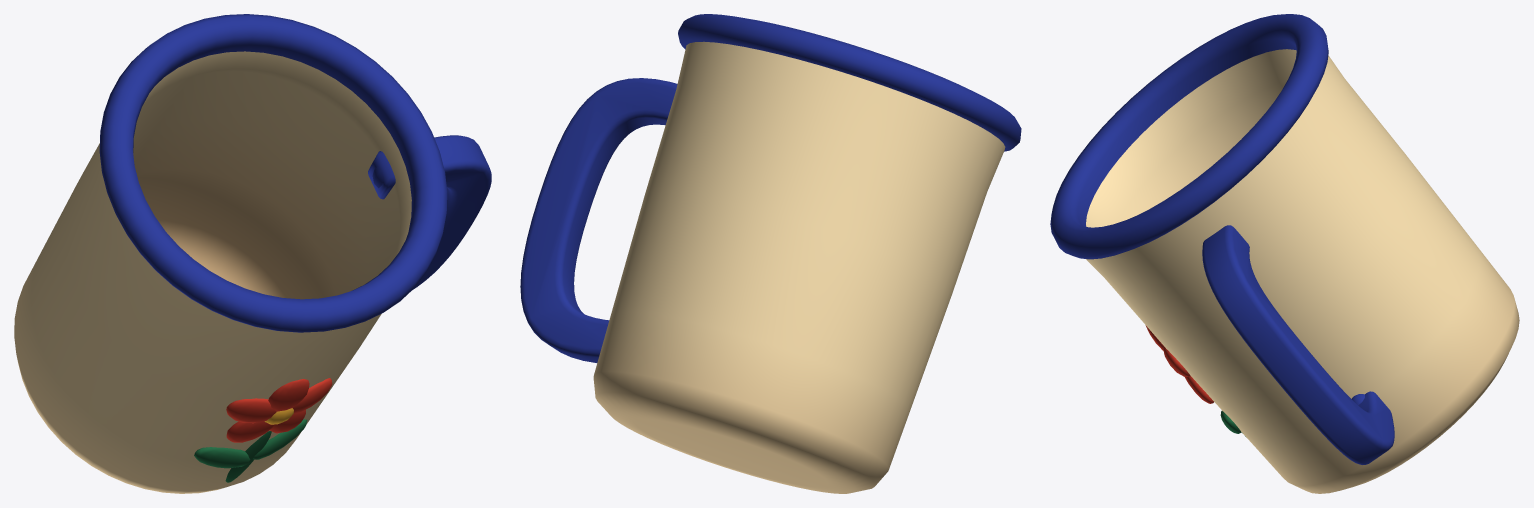
Rendered from mug.glb.
3 views of the same model, side by side, from view 1: azimuth 30°, elevation 25°; view 2: azimuth 150°, elevation 25°; view 3: azimuth 270°, elevation 25° (orthographic). The views are drawn at different scales.
Parts seen in each view (by area): view 1: Chinese enamel mug; view 2: Chinese enamel mug; view 3: Chinese enamel mug.
Boxes of the visible parts, box(x1,y1,x2,y2) form: Chinese enamel mug: box(14, 14, 491, 493); Chinese enamel mug: box(520, 14, 1021, 493); Chinese enamel mug: box(1050, 14, 1519, 493).
Size of the model in its own units: 0.849 by 0.9182 by 0.8951.
